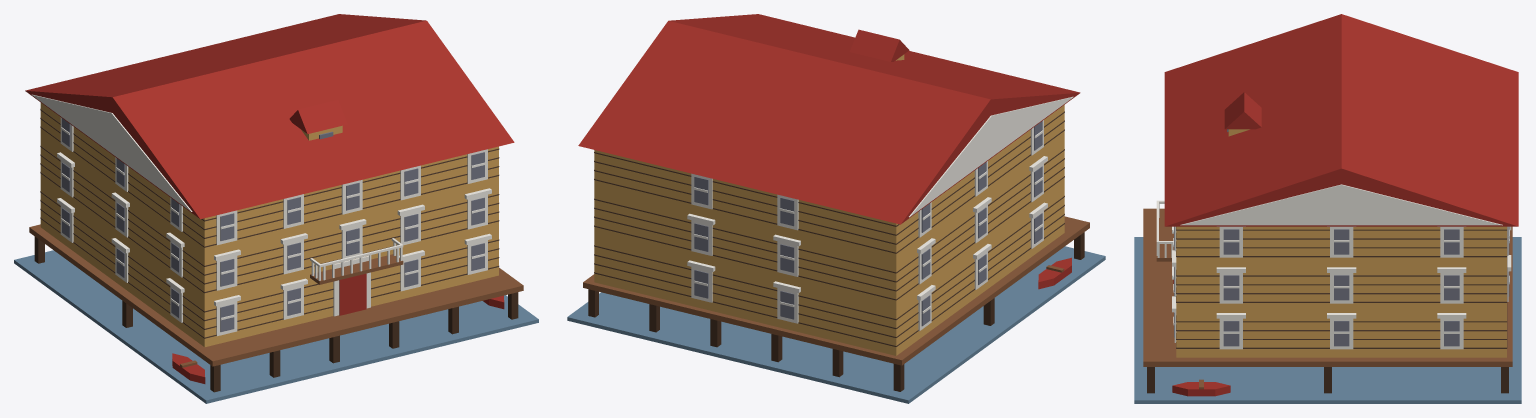
File: house-2x2-3f-palafito-a.glb
The picture shows the model from 3 angles, left to right: view 1: azimuth 30°, elevation 25°; view 2: azimuth 150°, elevation 25°; view 3: azimuth 270°, elevation 25°; orthographic projection. The views are drawn at different scales.
Visible parts, largest first — view 1: house-2x2-3f-palafito-a; view 2: house-2x2-3f-palafito-a; view 3: house-2x2-3f-palafito-a.
Boxes of the visible parts, x1,y1,x2,y2 form: house-2x2-3f-palafito-a: (14,14,538,403); house-2x2-3f-palafito-a: (567,14,1105,403); house-2x2-3f-palafito-a: (1134,14,1521,403).
Size of the model in its own units: 1.99 by 1.31 by 1.99.
1 material, 1 textured.
